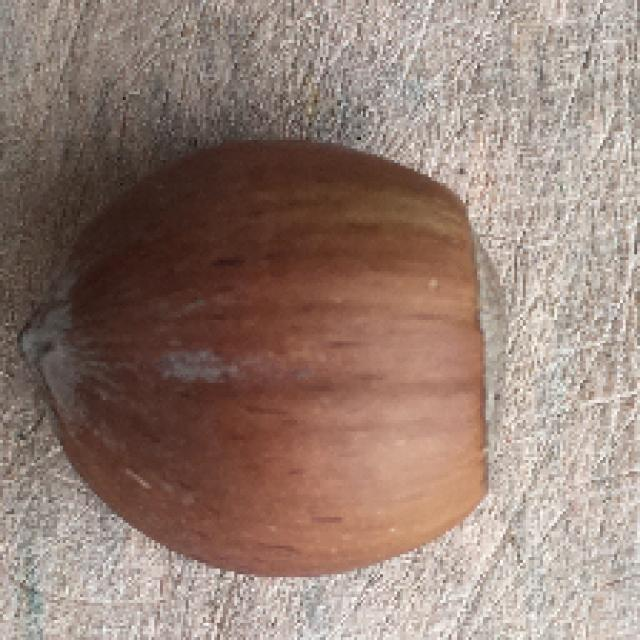qualityHazelnut: (20, 141, 510, 578)
